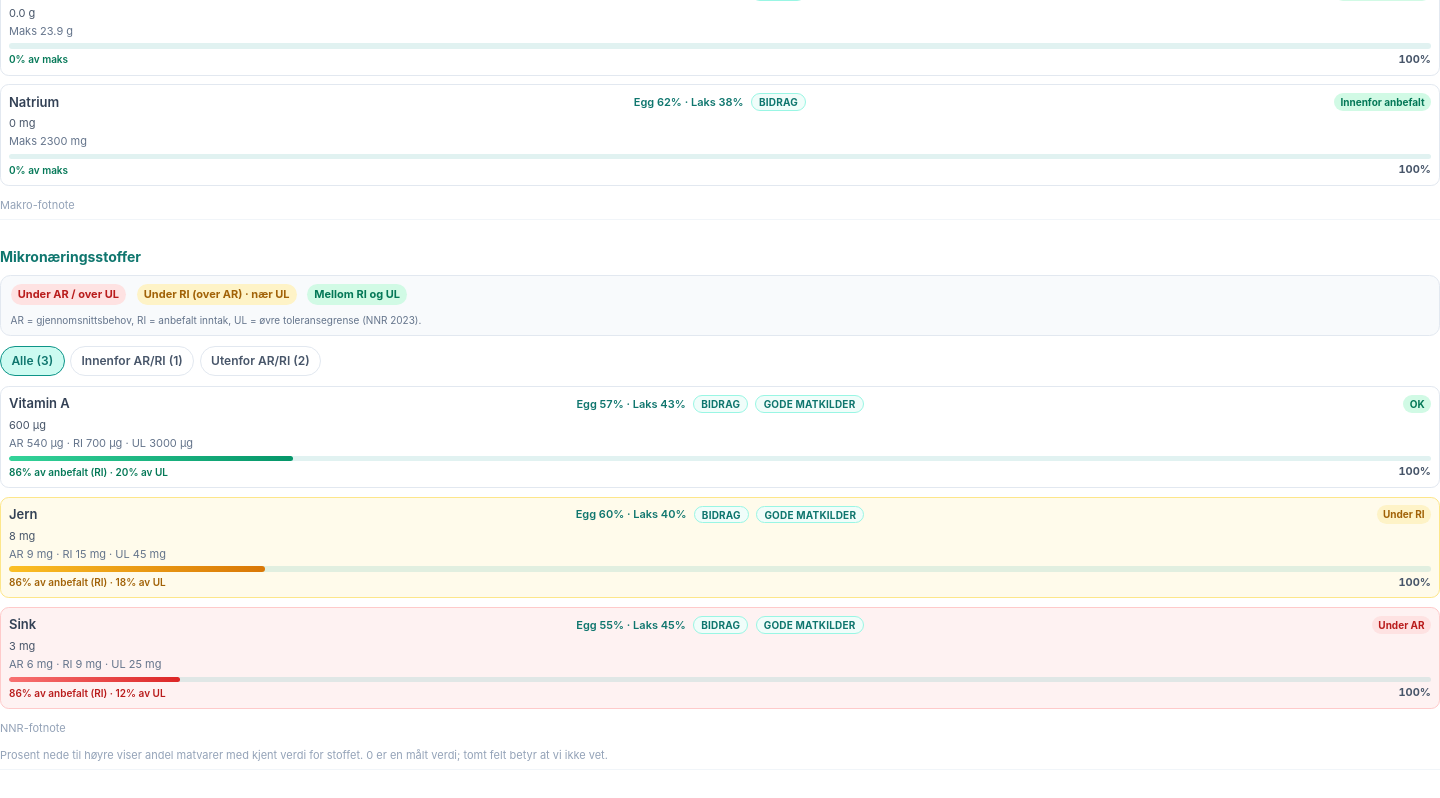
Test case: NutritionReportStackedBody › lists top food-bank sources for a nutrient from the current bank
(page scrolled)
Click the button with aria-label "Vis gode matkilder til Vitamin A".
click(810, 404)  # box [756,395,864,413]
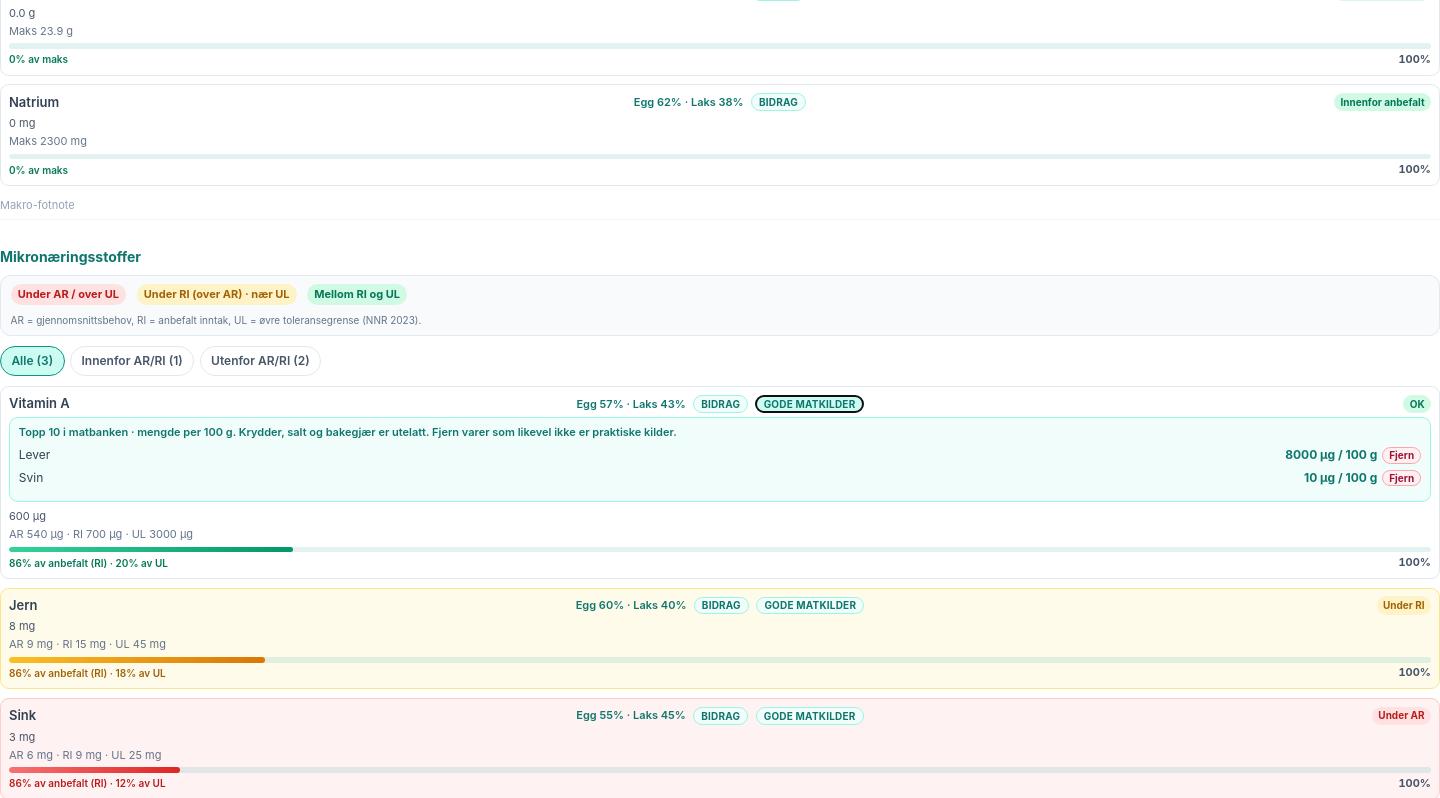
expect the text "Topp 10 i matbanken · mengde per 100 g. Krydder, salt og bakegjær er utelatt. Fjern varer som likevel ikke er praktiske " is shown: met, box [19,425,677,439]
expect the text "Lever" is shown: met, box [19,446,50,464]
expect the text "8000 µg / 100 g" is shown: met, box [1285,446,1377,464]
Click the button with aria-label "Vis gode matkilder til Vitamin A".
click(810, 404)  # box [756,395,864,413]
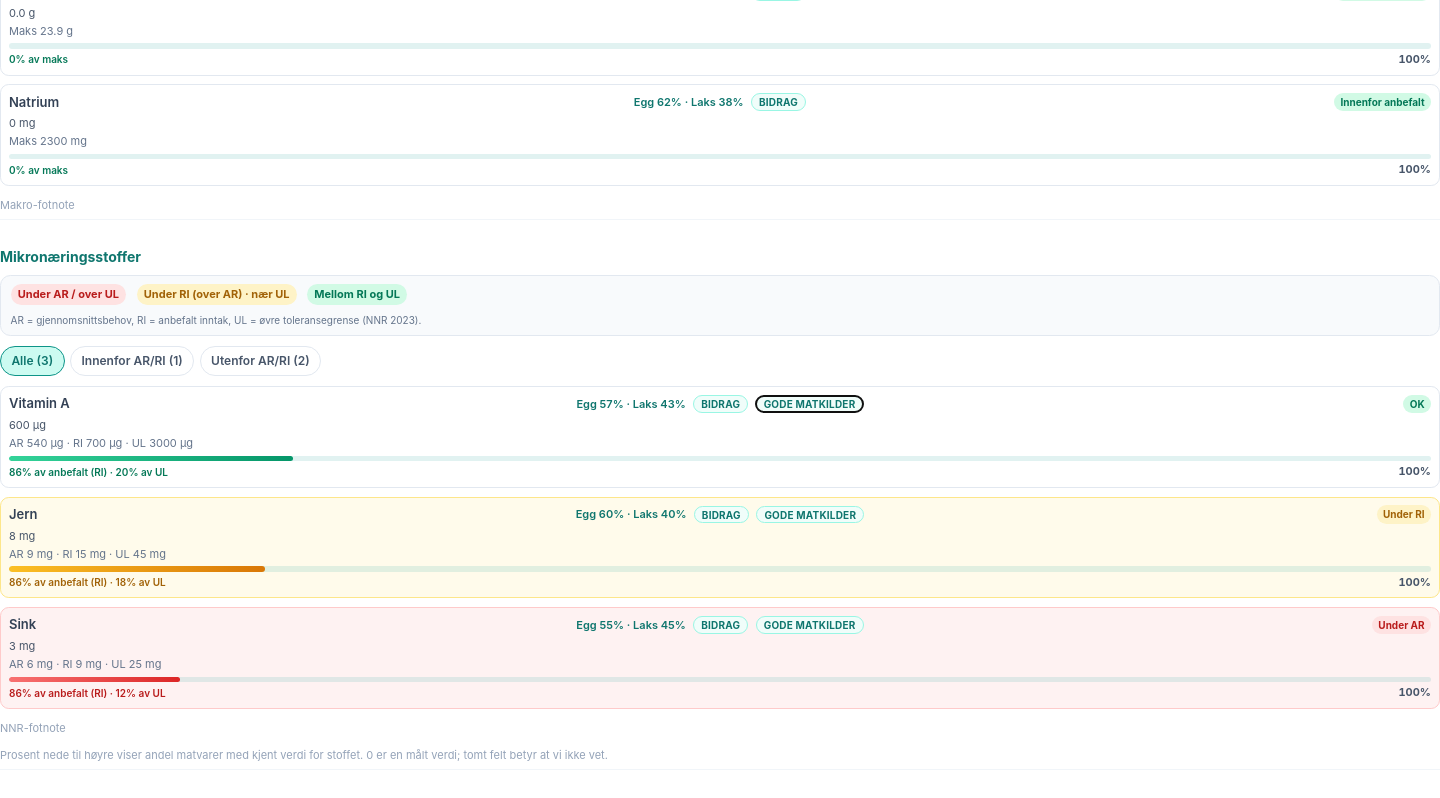
Click the button with aria-label "Vis gode matkilder til Vitamin A".
click(810, 404)  # box [756,395,864,413]
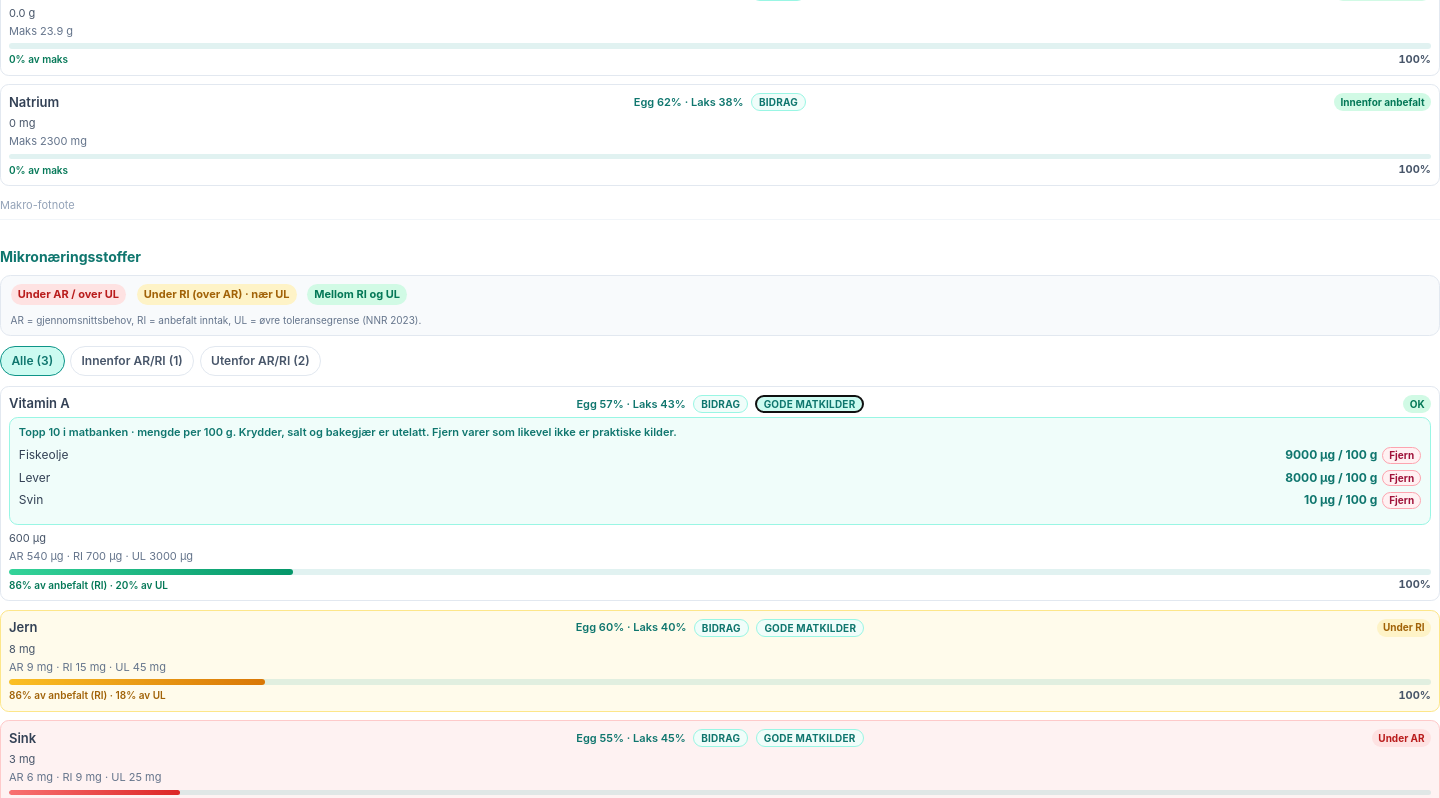
expect the text "Fiskeolje" is shown: met, box [19,446,68,464]
expect the text "9000 µg / 100 g" is shown: met, box [1285,446,1377,464]
